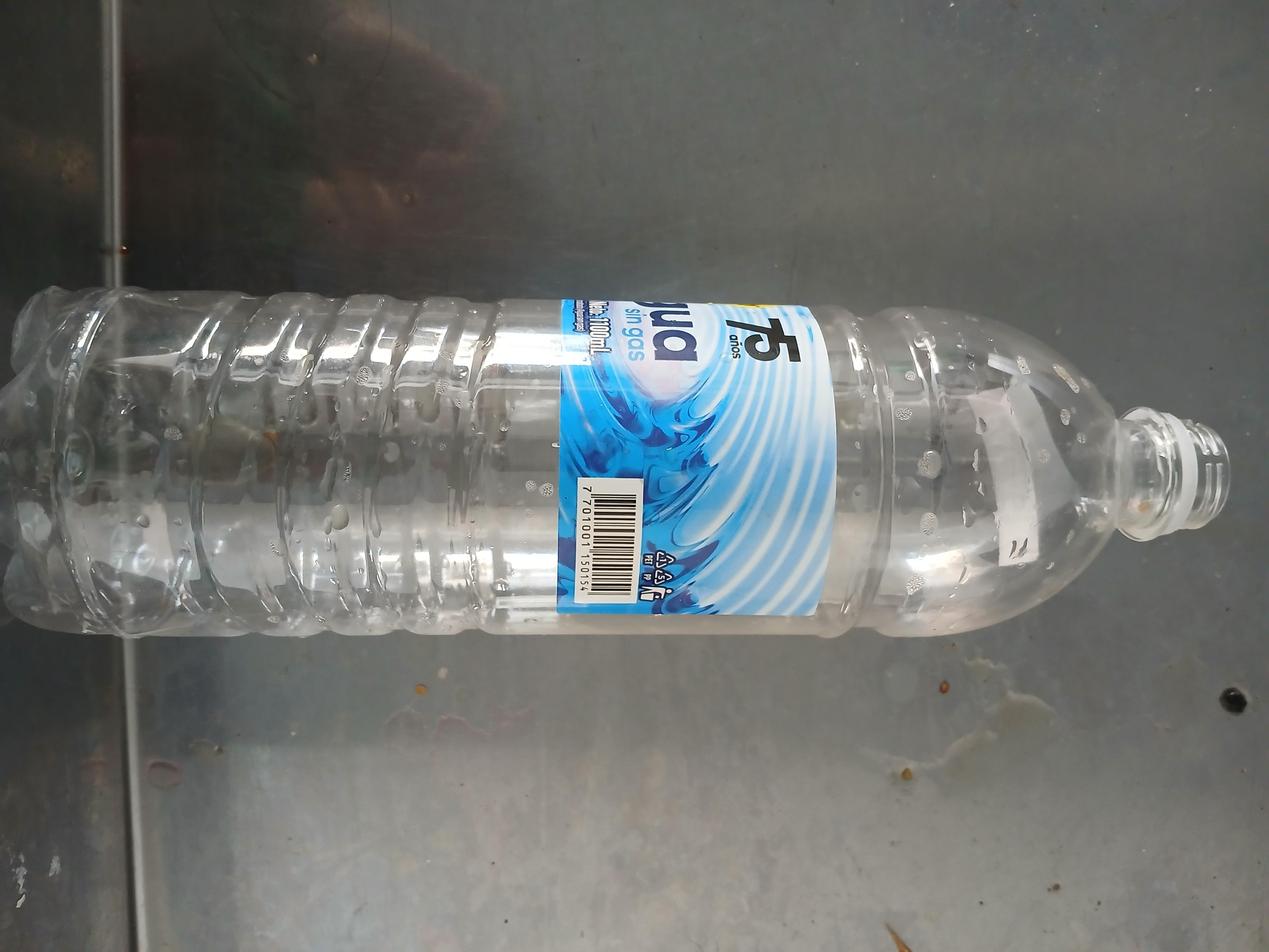Plastico: (0, 285, 1229, 635)
